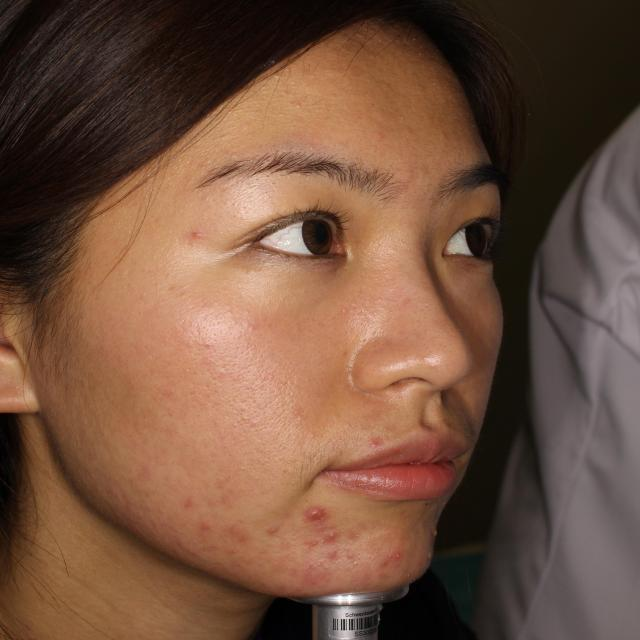acne: (300, 559, 334, 591), (188, 516, 221, 546), (294, 497, 327, 522), (317, 523, 346, 550), (226, 520, 256, 546), (265, 518, 287, 546), (382, 546, 404, 571), (182, 224, 201, 251)
